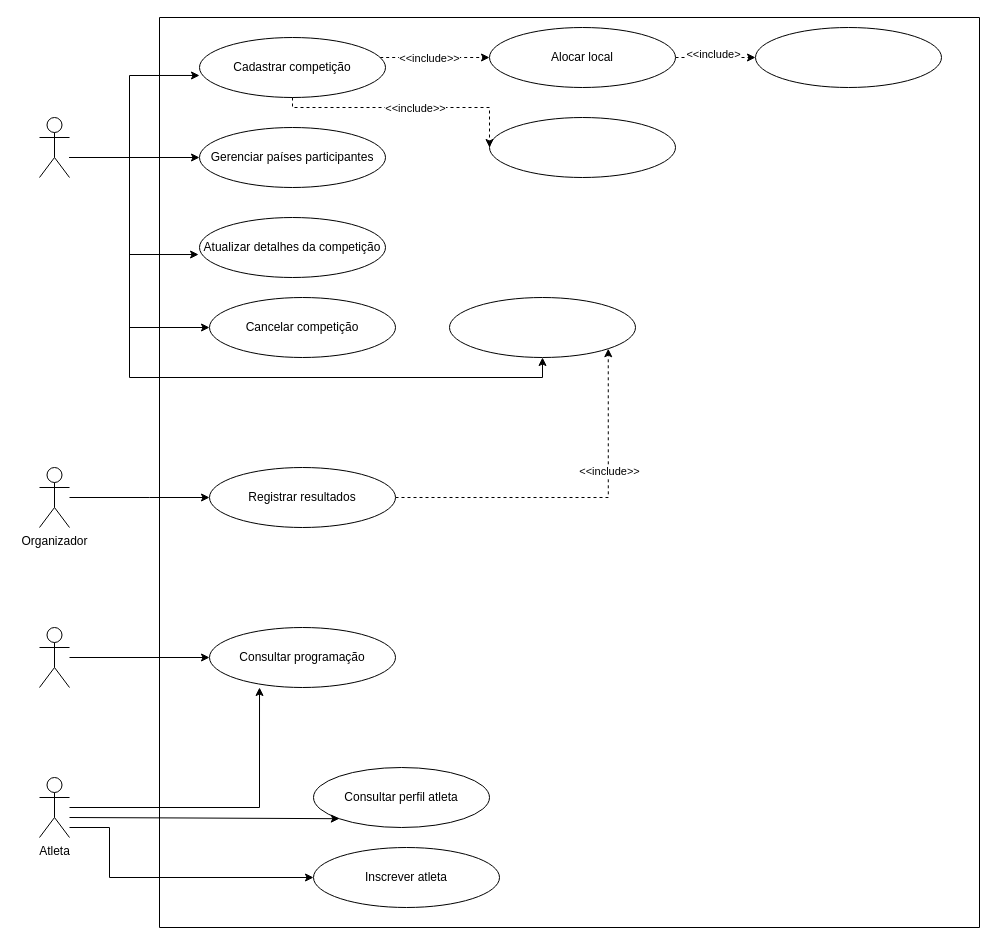
This 997x945 diagram has some shape labels left out. The shapes that lost their labels are listed below. From the top down, each one's centre as x and y in pixels, then its label:
At (848,57): "Gerenciar disponibilidade de locais".
At (54,147): "Administrador".
At (582,147): "Cadastrar atleta".
At (542,327): "Gerar relatório de medalhas".
At (54,657): "Público".
